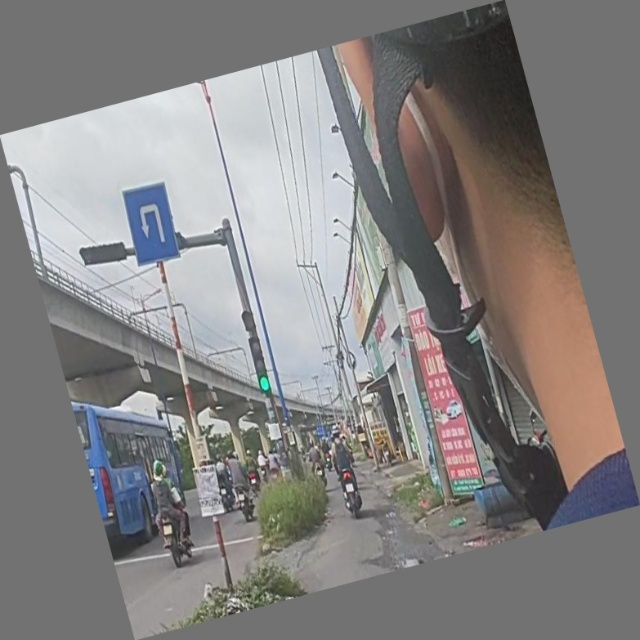I.409: (116, 171, 192, 279)
